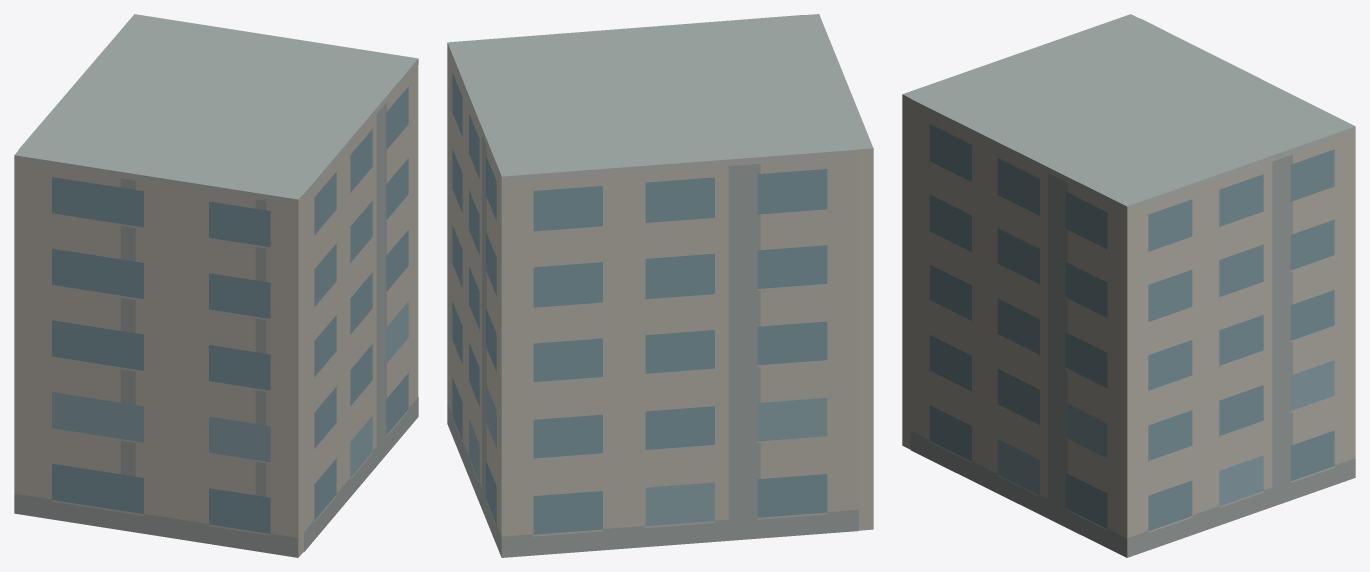
Rendered from survey-upis-32844161.glb.
The picture shows the model from 3 angles, left to right: view 1: azimuth 30°, elevation 25°; view 2: azimuth 150°, elevation 25°; view 3: azimuth 270°, elevation 25°; orthographic projection. The views are drawn at different scales.
Parts seen in each view (by area): view 1: survey-upis-32844161.tmp; view 2: survey-upis-32844161.tmp; view 3: survey-upis-32844161.tmp.
Boxes of the visible parts, <box> form: survey-upis-32844161.tmp: <box>14,14,418,557</box>; survey-upis-32844161.tmp: <box>447,14,873,557</box>; survey-upis-32844161.tmp: <box>902,14,1355,557</box>.
Size of the model in its own units: 16.22 by 13.8 by 16.14.
